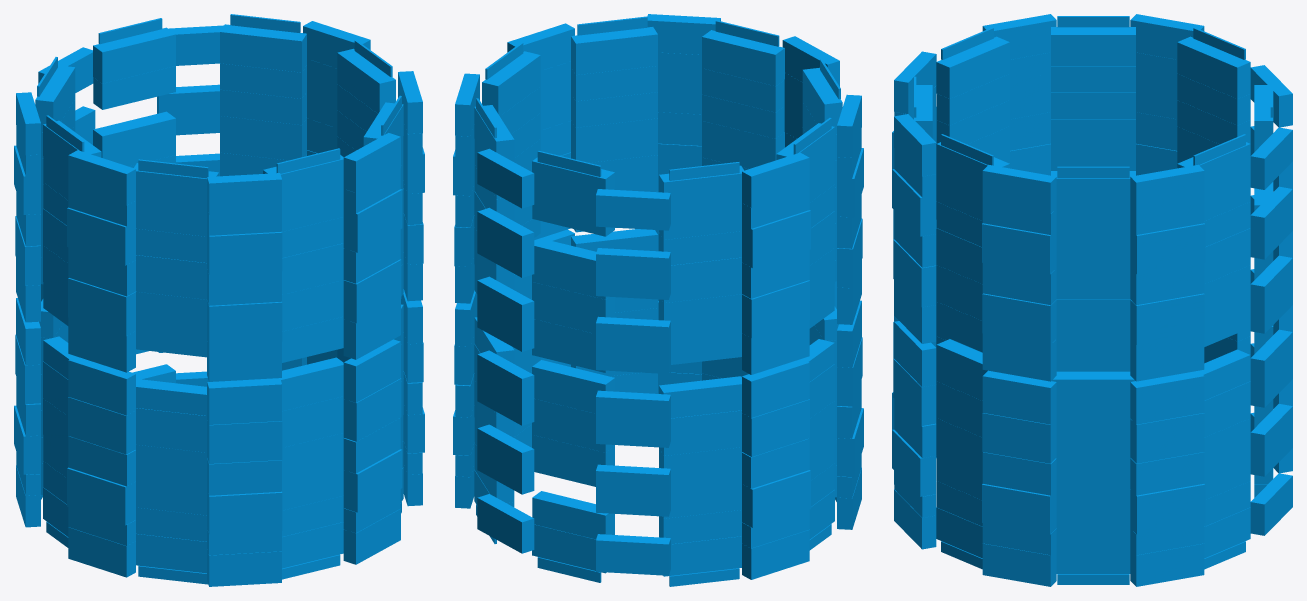
File: rmuonbarrelmid.fbx
3 views of the same model, side by side, from view 1: azimuth 30°, elevation 25°; view 2: azimuth 150°, elevation 25°; view 3: azimuth 270°, elevation 25° (orthographic).
Parts seen in each view (by area): view 1: /tmp/importOpenSceneGraph7cb32/RMuonBarrelMid.wrl_Group_Grou (×122); view 2: /tmp/importOpenSceneGraph7cb32/RMuonBarrelMid.wrl_Group_Grou (×119); view 3: /tmp/importOpenSceneGraph7cb32/RMuonBarrelMid.wrl_Group_Grou (×114).
Boxes of the visible parts, box(x1,y1,x2,y2) form: /tmp/importOpenSceneGraph7cb32/RMuonBarrelMid.wrl_Group_Grou (×122): box(14, 14, 424, 586); /tmp/importOpenSceneGraph7cb32/RMuonBarrelMid.wrl_Group_Grou (×119): box(453, 14, 863, 586); /tmp/importOpenSceneGraph7cb32/RMuonBarrelMid.wrl_Group_Grou (×114): box(892, 14, 1292, 586).
Size of the model in its own units: 16915 by 19320 by 16826.
